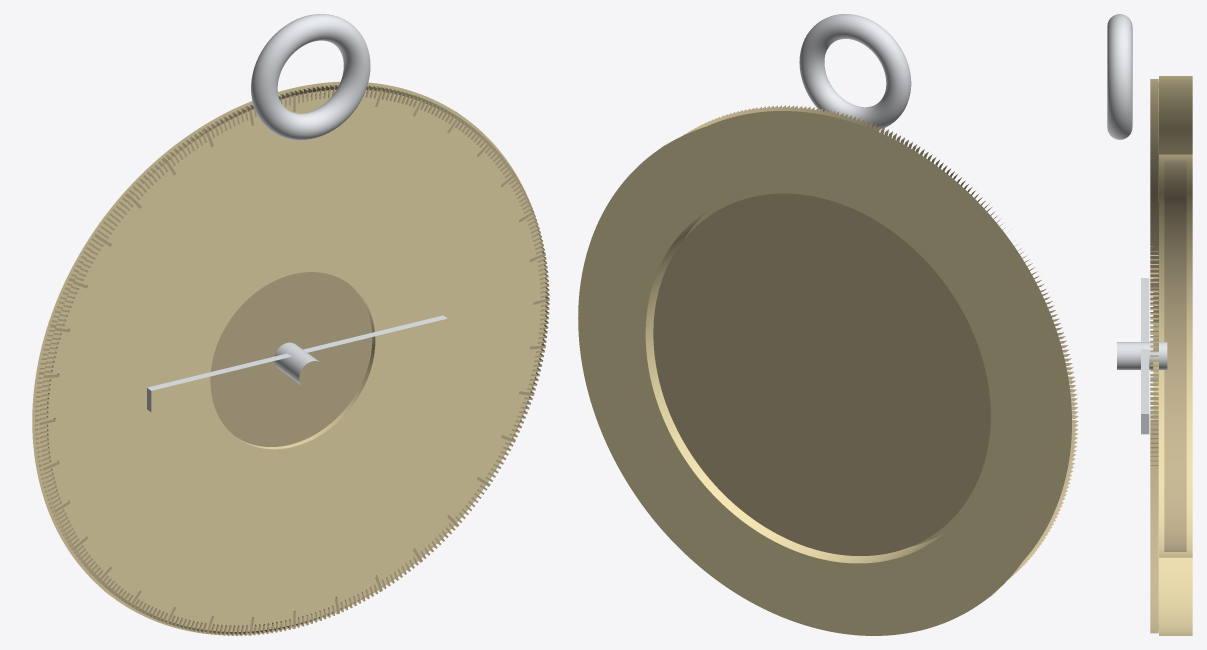
File: astrolabe.glb
The picture shows the model from 3 angles, left to right: view 1: azimuth 30°, elevation 25°; view 2: azimuth 150°, elevation 25°; view 3: azimuth 270°, elevation 25°; orthographic projection. The views are drawn at different scales.
Parts seen in each view (by area): view 1: Rete, Tympan, Ticks, SuspensionRing, Mater, Rule, Pin; view 2: Mater, Tympan, Rete, SuspensionRing, Ticks; view 3: Mater, Tympan, Ticks, SuspensionRing, Rule, Pin, Rete.
Boxes of the visible parts, x1,y1,x2,y2 form: Rete: (40, 89, 545, 631); Tympan: (210, 272, 372, 446); Ticks: (35, 84, 549, 635); SuspensionRing: (251, 14, 370, 140); Mater: (32, 81, 547, 635); Rule: (147, 315, 447, 411); Pin: (274, 342, 319, 385); Mater: (578, 118, 1060, 635); Tympan: (653, 193, 990, 555); Rete: (685, 111, 1071, 559); SuspensionRing: (799, 14, 911, 130); Ticks: (683, 105, 1078, 579); Mater: (1159, 76, 1192, 635); Tympan: (1164, 160, 1186, 551); Ticks: (1150, 79, 1158, 633); SuspensionRing: (1107, 14, 1132, 139); Rule: (1141, 278, 1149, 434); Pin: (1117, 342, 1167, 369); Rete: (1153, 82, 1158, 629).
Size of the model in its own units: 2 by 2.32 by 0.305.
